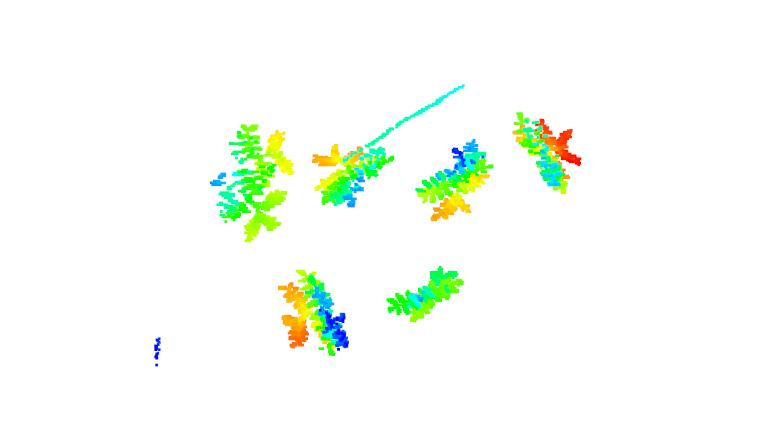chickpea: (210, 122, 298, 238), (418, 139, 493, 221), (513, 111, 583, 195), (282, 269, 350, 354), (385, 266, 464, 327), (319, 139, 392, 203)
